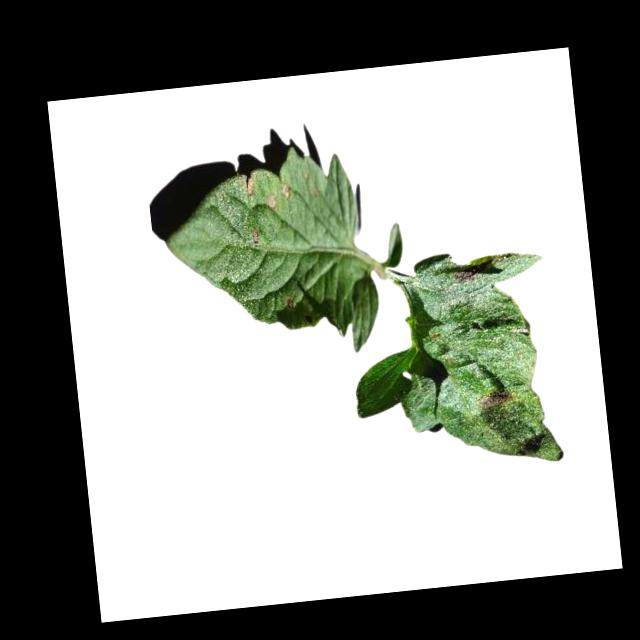Early_blight: (477, 388, 522, 413), (241, 174, 257, 199), (454, 270, 478, 286), (279, 180, 294, 201), (264, 192, 279, 211), (249, 229, 261, 245)
